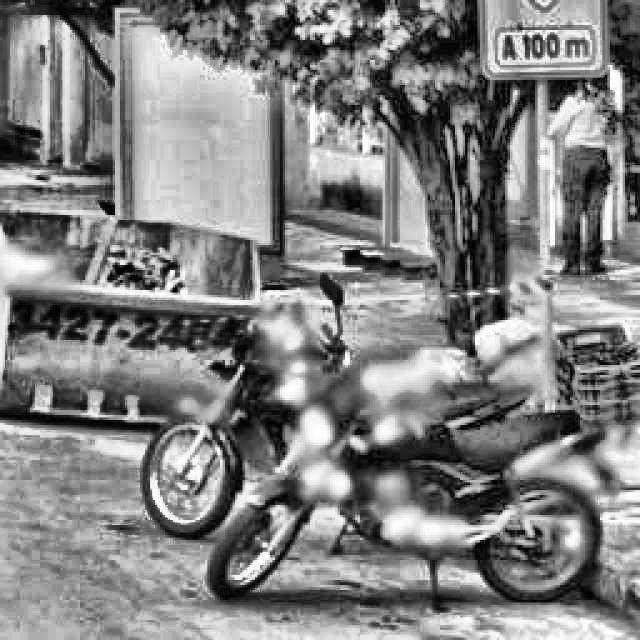motorcycle: (192, 272, 594, 616), (136, 273, 325, 555)
